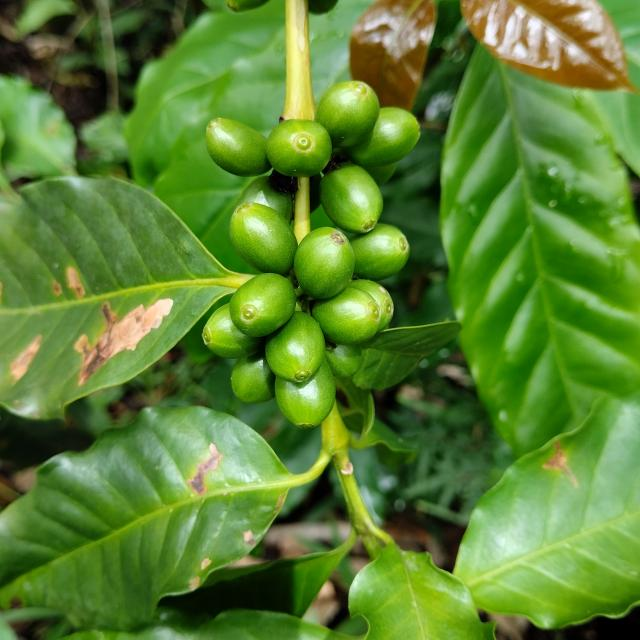green: (229, 202, 298, 274), (319, 162, 383, 233), (346, 106, 420, 167), (315, 80, 380, 148), (294, 227, 355, 299), (229, 273, 297, 337), (265, 311, 325, 383), (275, 360, 336, 428), (312, 287, 381, 345), (266, 119, 332, 177), (206, 118, 271, 176), (202, 303, 265, 359), (350, 223, 410, 281), (237, 175, 293, 223), (349, 279, 394, 332), (231, 351, 275, 404)
